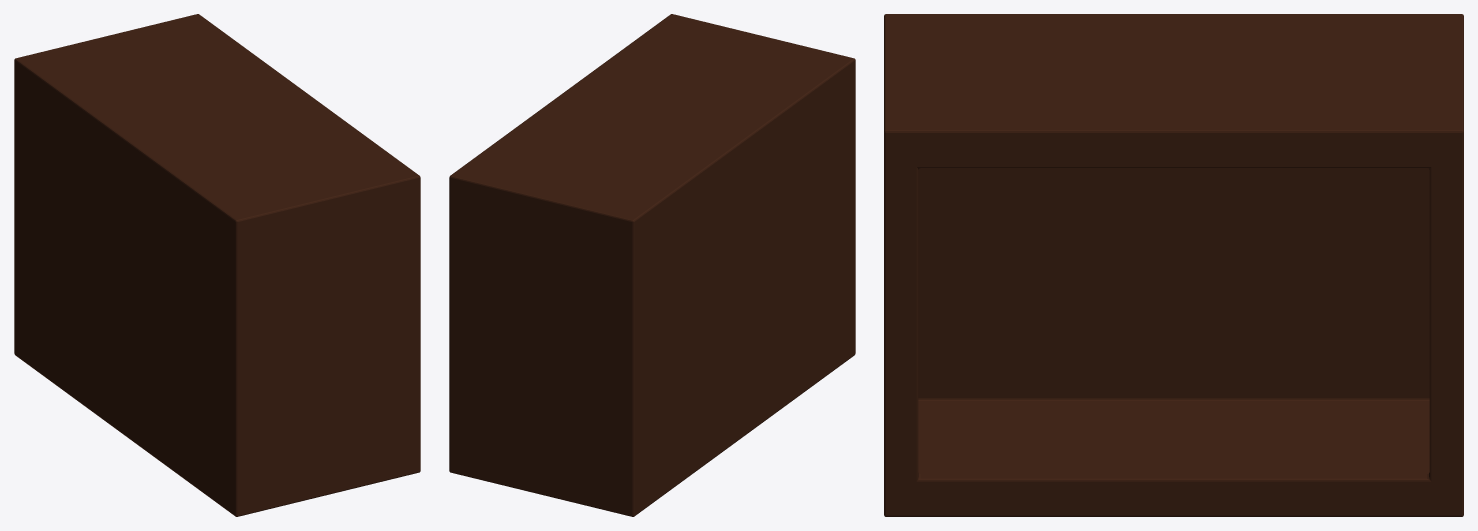
The model's file is TVBox.fbx.
The picture shows the model from 3 angles, left to right: view 1: azimuth 30°, elevation 25°; view 2: azimuth 150°, elevation 25°; view 3: azimuth 270°, elevation 25°; orthographic projection. The views are drawn at different scales.
Parts seen in each view (by area): view 1: TVBox; view 2: TVBox; view 3: TVBox.
Part boxes in pixels (x1,y1,x2,y2): TVBox: (14, 14, 420, 516); TVBox: (449, 14, 855, 516); TVBox: (884, 14, 1463, 516).
Size of the model in its own units: 0.1329 by 0.277 by 0.204.
